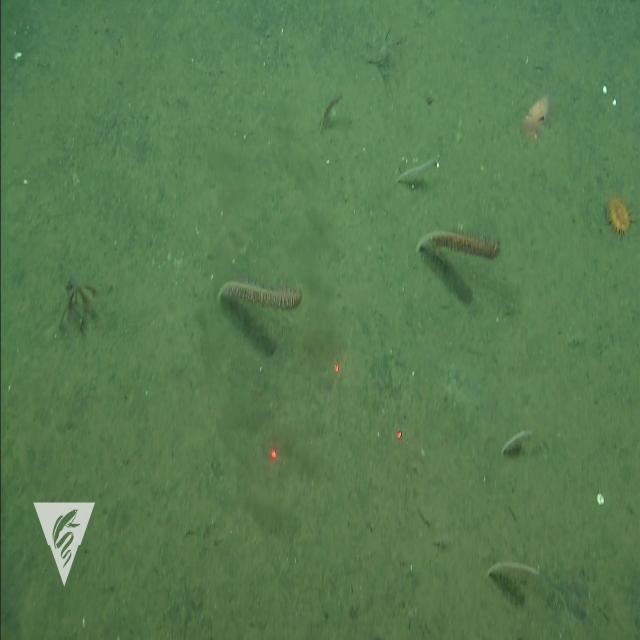Not Brittle Star: (61, 276, 102, 328), (366, 30, 402, 78)
